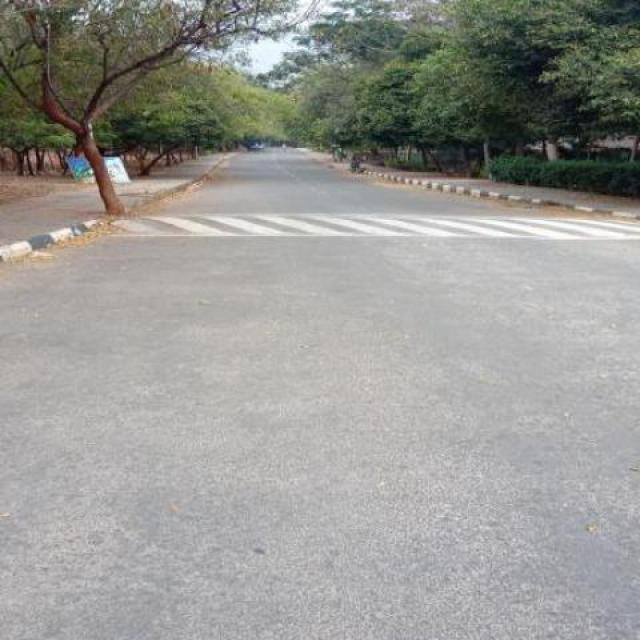Speed Bump: (88, 214, 639, 241)
